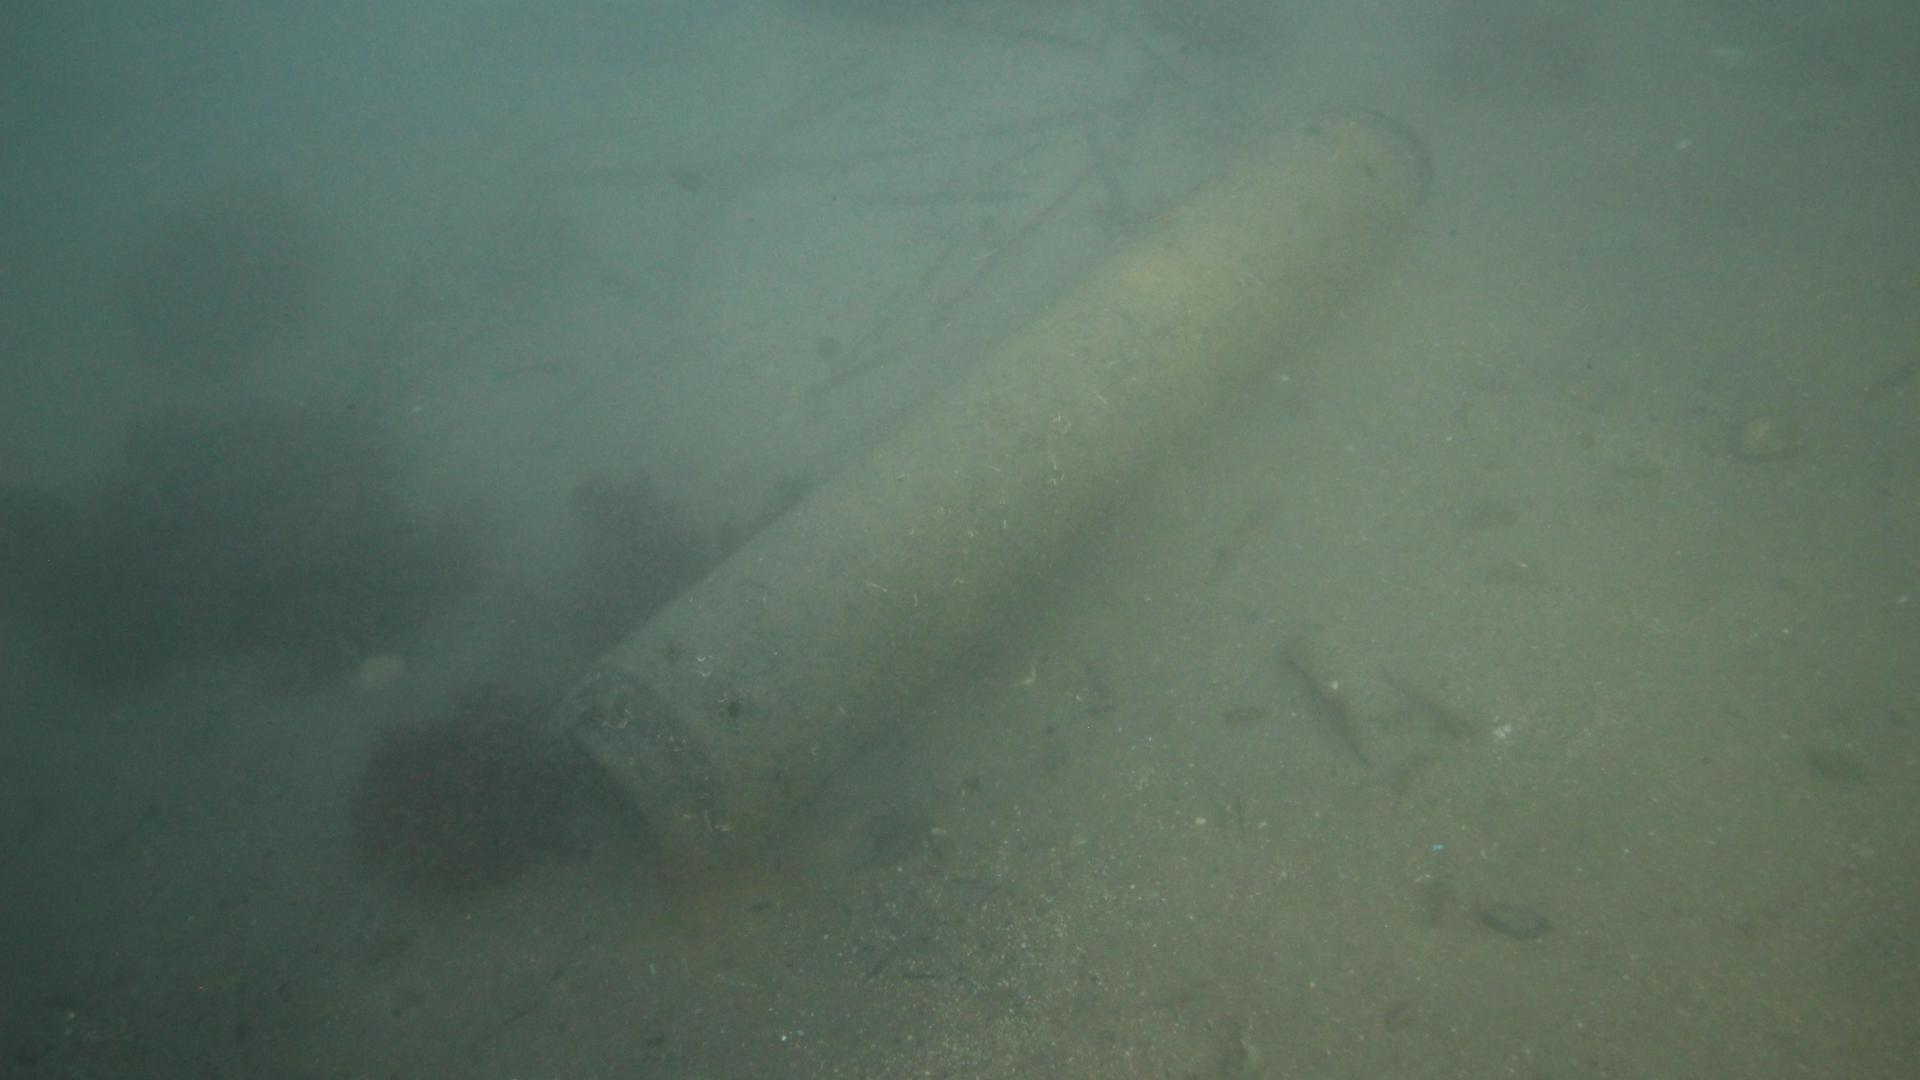eel fish trap: (558, 102, 1429, 887)
